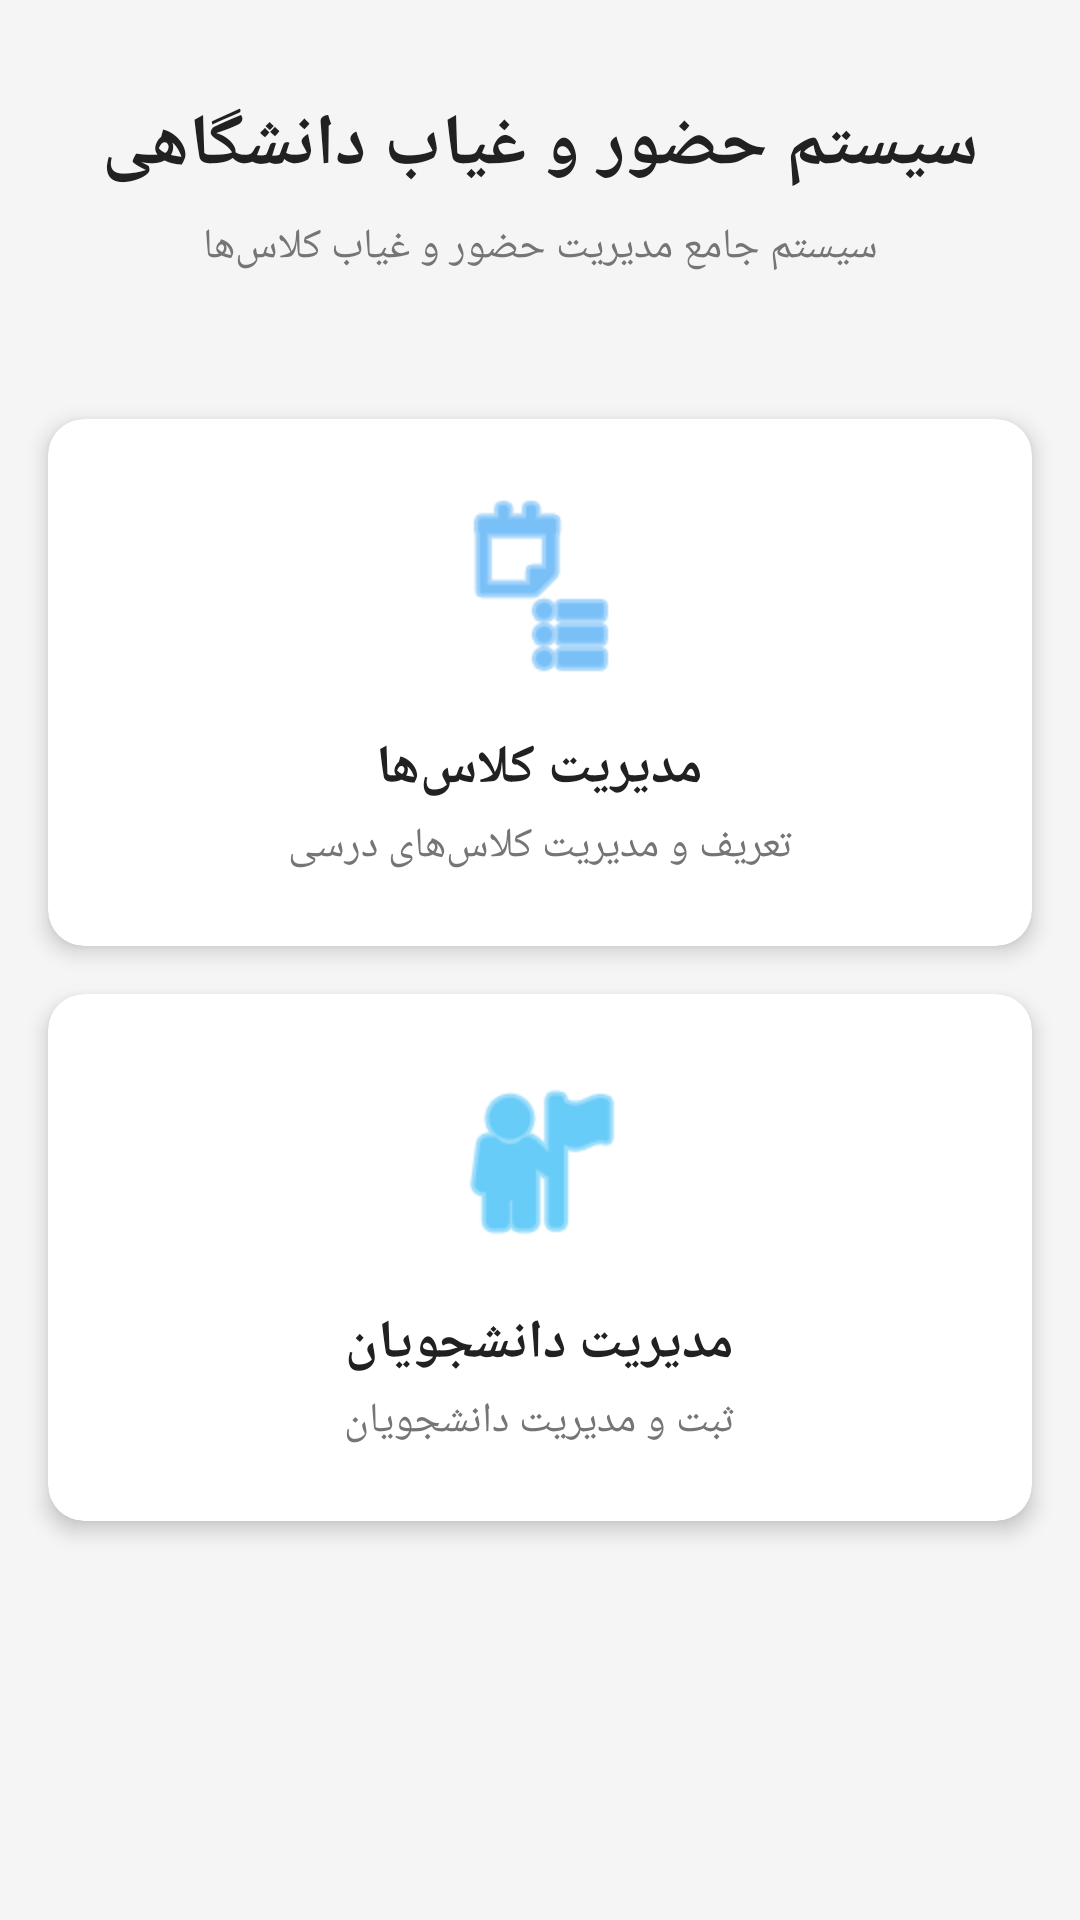

Screen size 1080x1920. Icon name, then its box in pixels as (x1, y1, x2, y2):
agenda: (474, 500, 608, 671)
